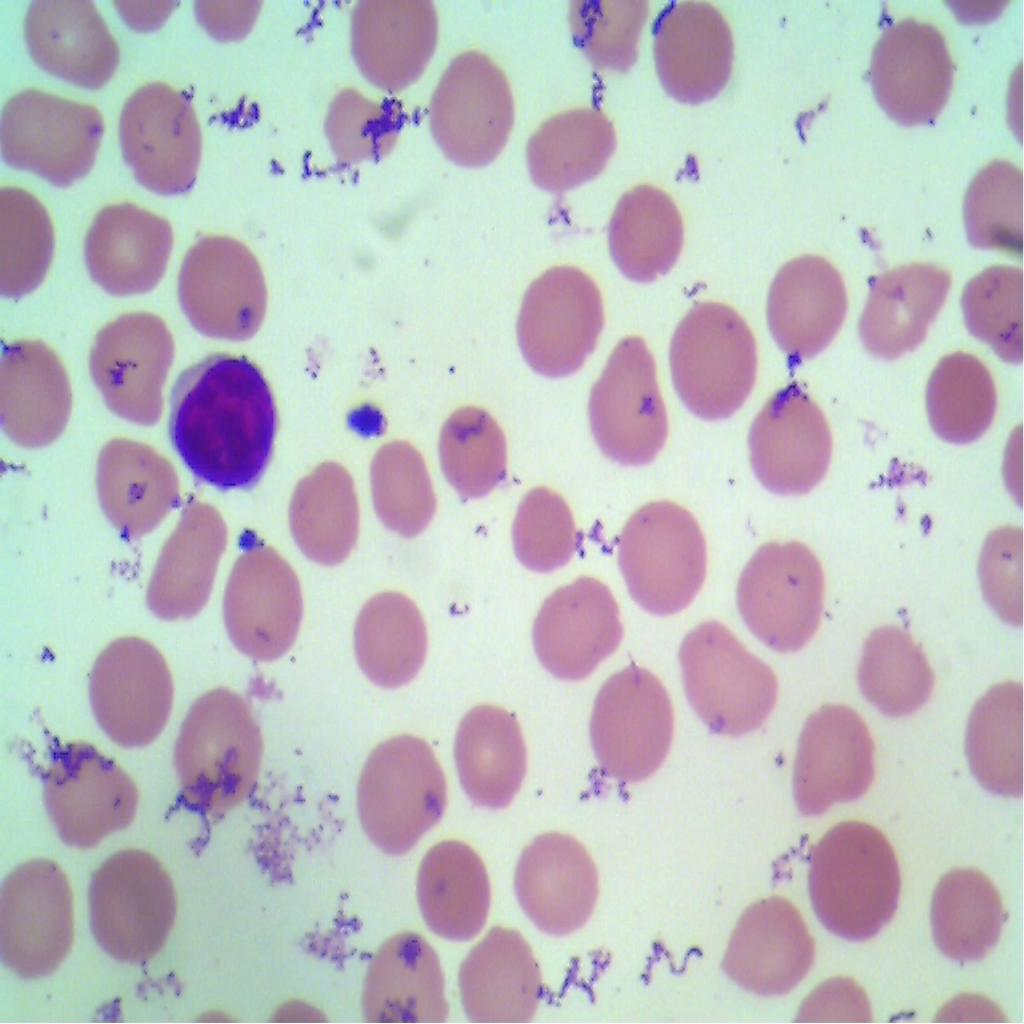Eritrosit: (794, 811, 908, 942), (782, 694, 888, 828), (730, 530, 833, 661), (576, 658, 675, 791), (874, 8, 971, 142), (81, 842, 179, 972), (711, 877, 816, 998), (29, 728, 143, 838), (915, 859, 1019, 977), (178, 227, 278, 348), (353, 730, 449, 856), (742, 384, 848, 498), (853, 247, 953, 367), (174, 681, 264, 814), (0, 82, 108, 192), (606, 491, 702, 614), (0, 332, 86, 468), (524, 575, 633, 682), (214, 545, 308, 669), (664, 296, 755, 424), (80, 630, 182, 744), (586, 329, 669, 468), (516, 255, 609, 378), (678, 625, 780, 737), (79, 307, 173, 428), (648, 0, 741, 118), (112, 77, 202, 198), (604, 182, 702, 292), (446, 698, 536, 815), (149, 495, 228, 627), (82, 198, 182, 302), (0, 854, 75, 992), (511, 821, 598, 939), (431, 52, 518, 169), (278, 452, 366, 566), (343, 0, 448, 95), (90, 435, 184, 536), (339, 585, 428, 691), (18, 0, 123, 89), (458, 920, 546, 1023), (918, 340, 998, 452), (858, 611, 940, 719), (762, 244, 843, 352), (370, 431, 438, 551), (414, 829, 486, 942), (522, 100, 610, 191), (362, 928, 446, 1023), (434, 410, 516, 506), (316, 76, 396, 170), (563, 0, 654, 79), (963, 264, 1023, 378), (968, 669, 1023, 791), (506, 481, 578, 571), (955, 152, 1023, 244), (964, 525, 1023, 610)
Limfosit: (161, 346, 288, 495)
